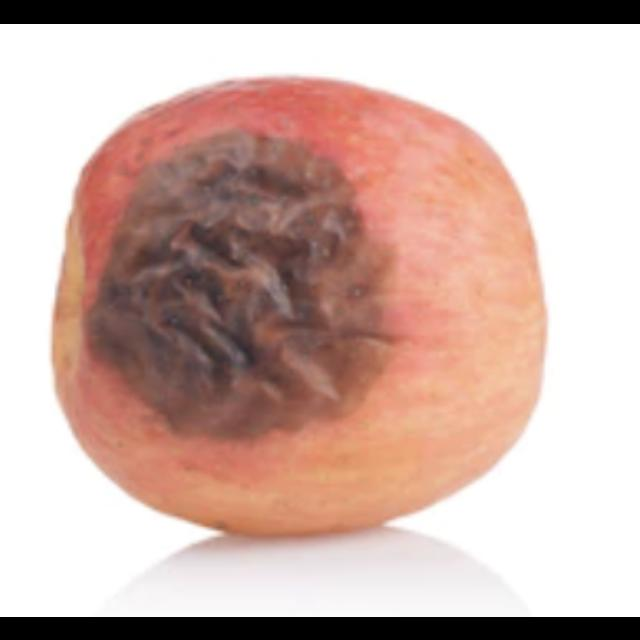Apel Tidak Segar: (32, 41, 558, 563)
